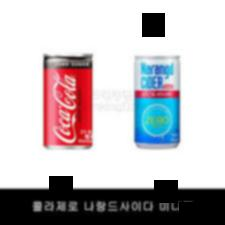cocacola_zero: (42, 52, 93, 150)
narangdcider: (130, 53, 182, 151)
